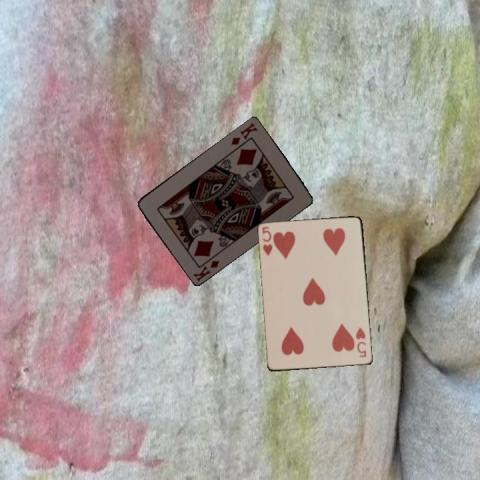5h: (353, 324, 368, 359), (259, 223, 274, 258)
Kd: (190, 251, 221, 283), (227, 119, 259, 146)
